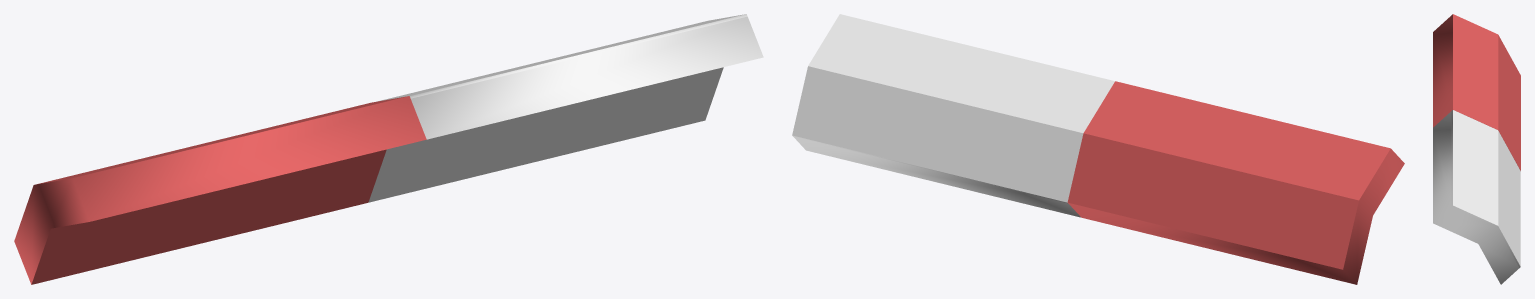
3 renders of one model, left to right at view 1: azimuth 30°, elevation 25°; view 2: azimuth 150°, elevation 25°; view 3: azimuth 270°, elevation 25°, orthographic. The views are drawn at different scales.
Parts seen in each view (by area): view 1: Raceline_Color_2; view 2: Raceline_Color_2; view 3: Raceline_Color_2.
Part boxes in pixels (x1,y1,x2,y2): Raceline_Color_2: [14, 14, 763, 284]; Raceline_Color_2: [792, 14, 1404, 284]; Raceline_Color_2: [1433, 14, 1520, 284].
Bounding box in the file's own units: 1 × 0.1941 × 0.1941.
